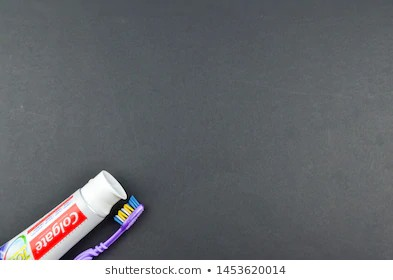toothbrush: (77, 195, 154, 260)
